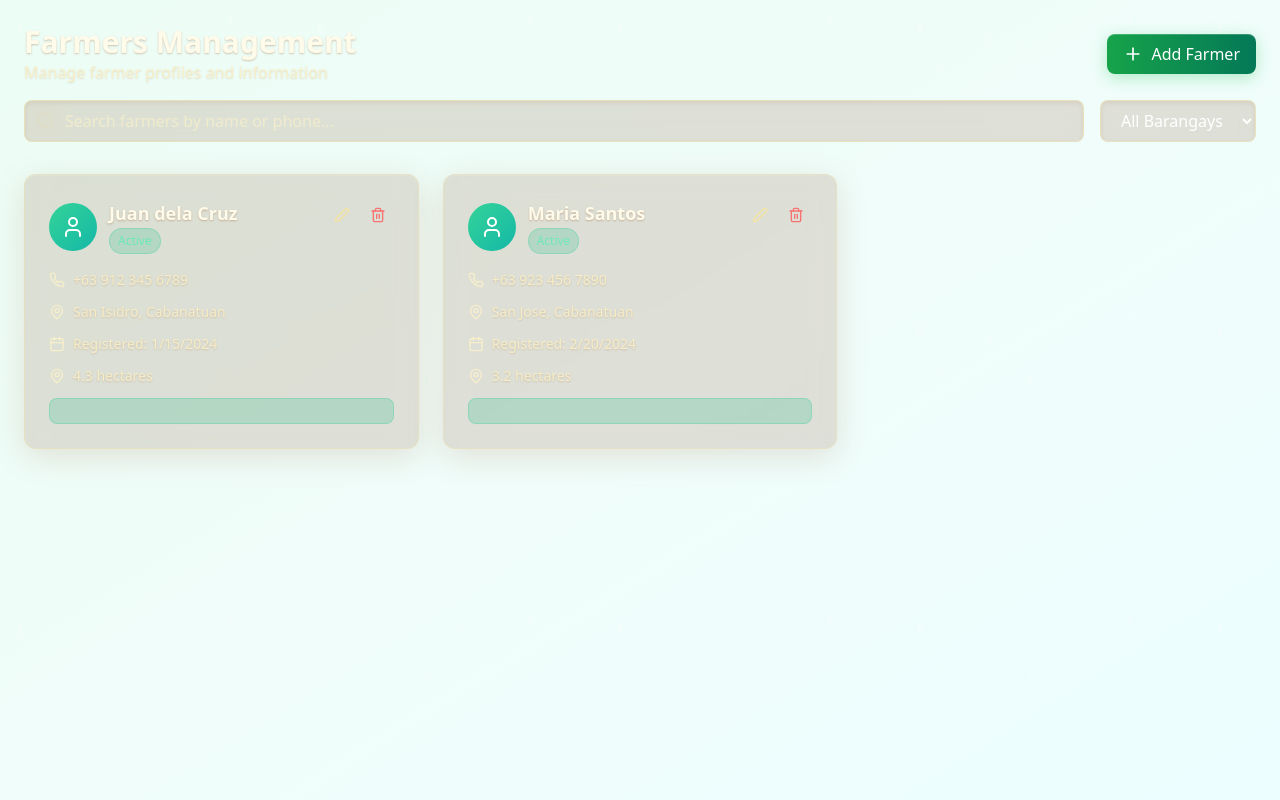
Test: FarmersManager › Add Farmer Form › closes form when cancel is clicked
Click the button "Add Farmer".
click(1182, 54)  # box 1108,34 -> 1256,74
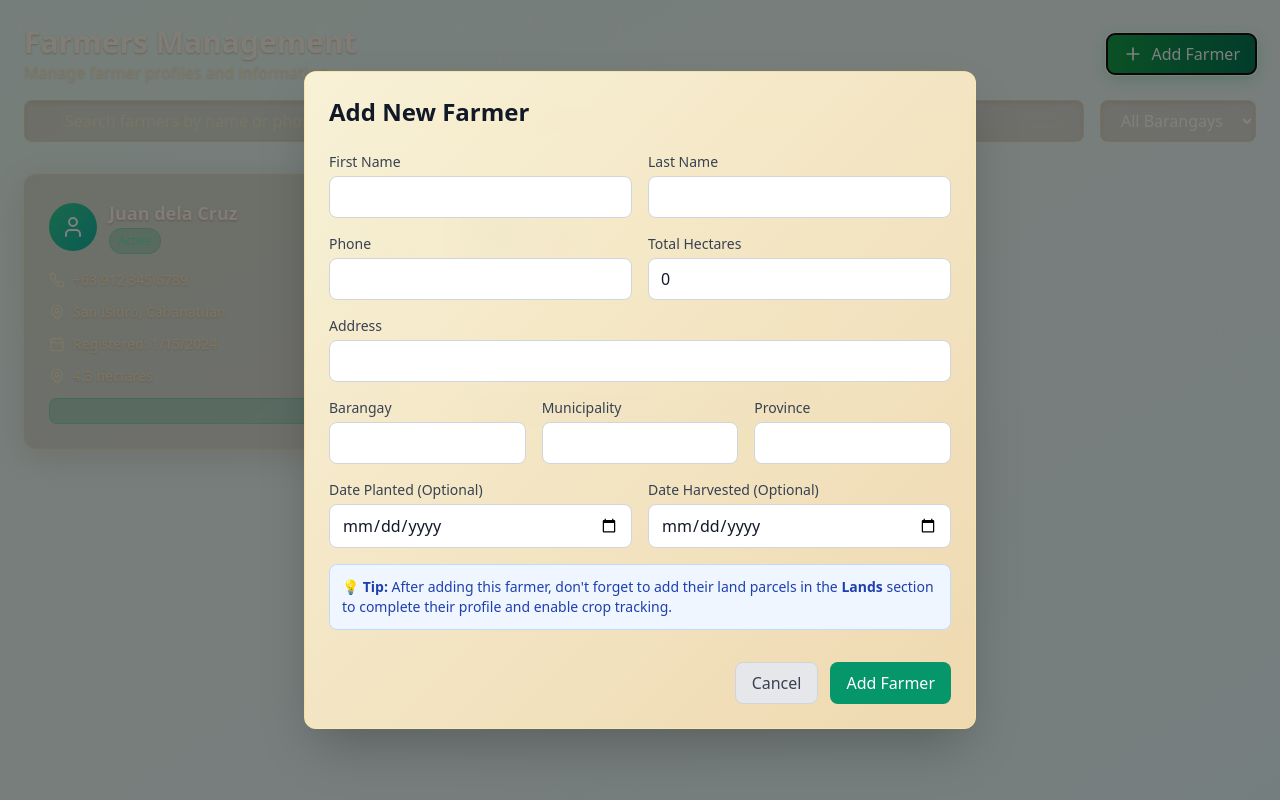
Expected: the heading "Add New Farmer" is shown, 329,95 -> 529,128
Click the button "Cancel".
click(776, 683)  # box 735,662 -> 818,704
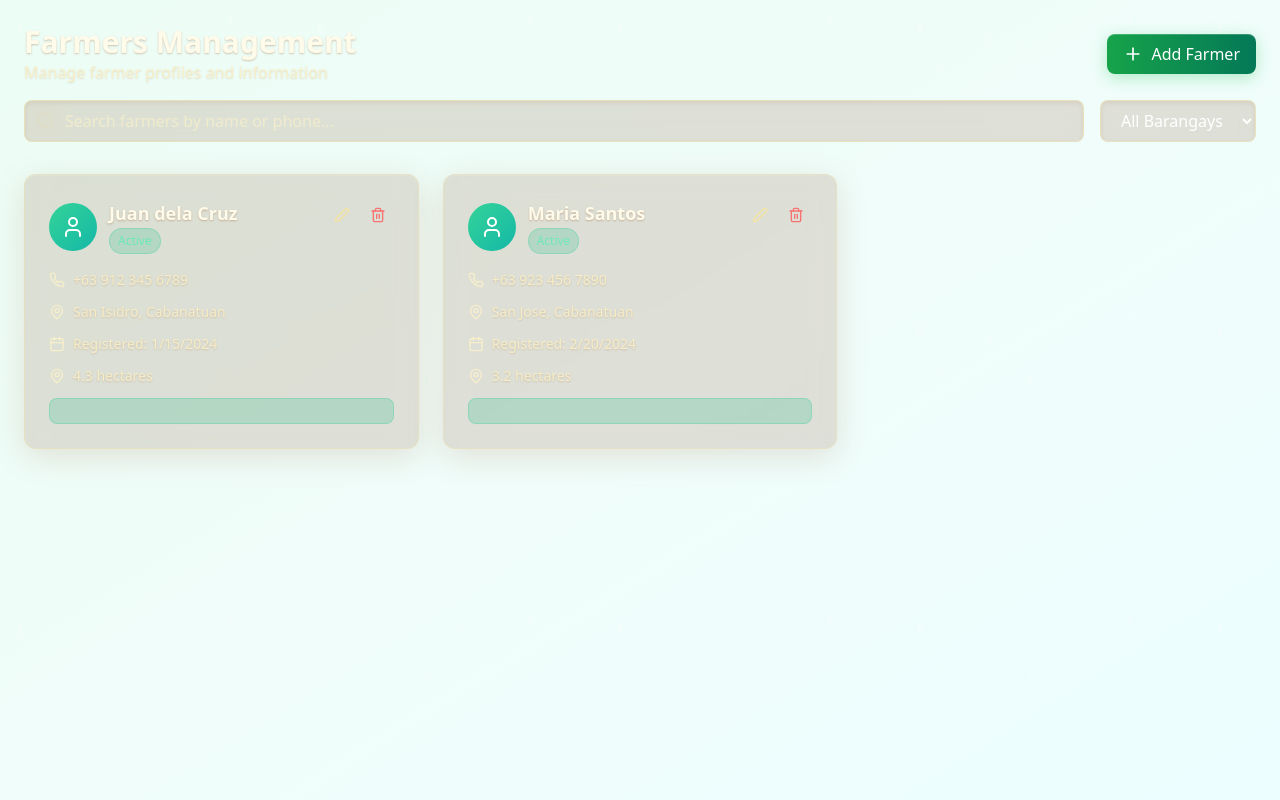
Expected: the heading "Add New Farmer" is gone
